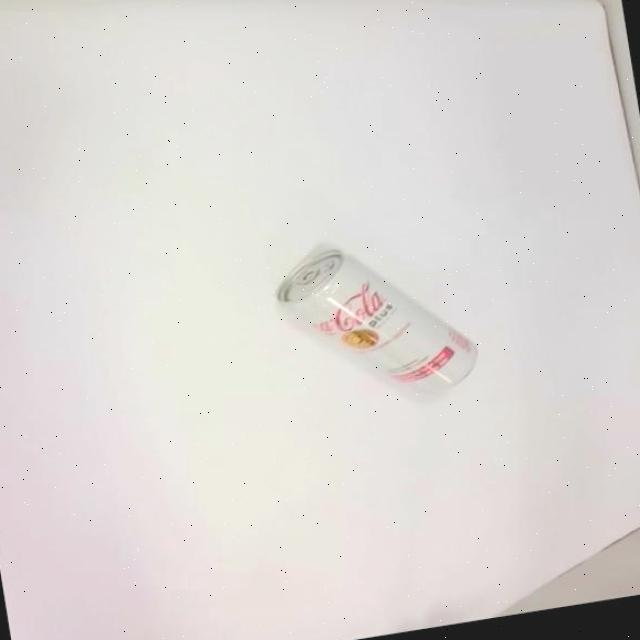debris: (267, 224, 483, 417)
